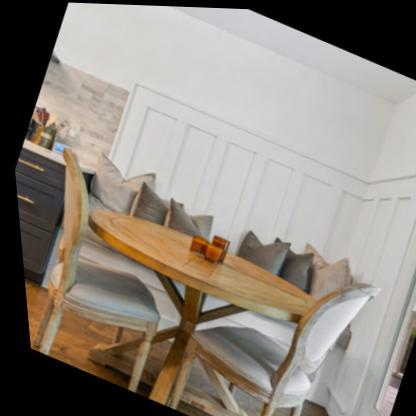Dining Table: (11, 160, 369, 416)
